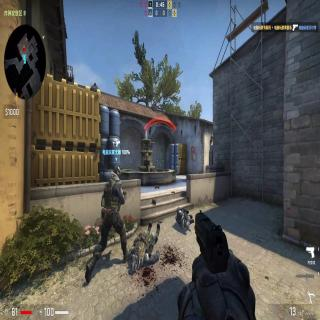T-Body: (144, 151, 150, 172)
T-Head: (145, 151, 149, 156)
